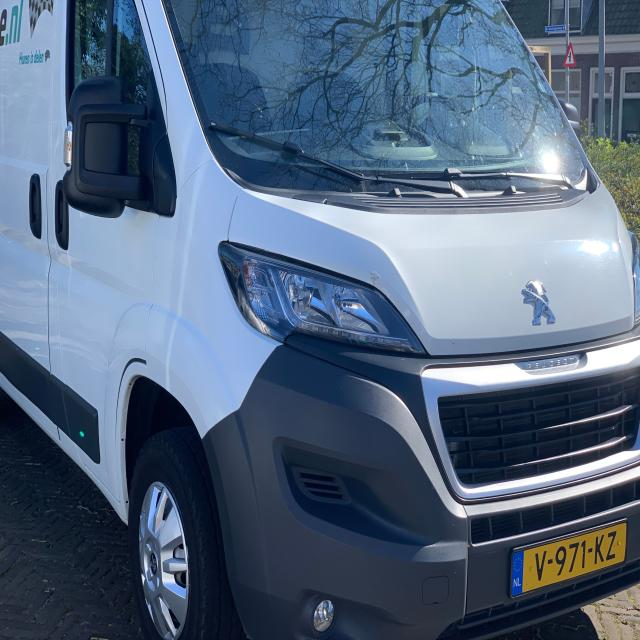plate: (508, 518, 628, 598)
